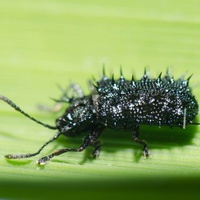insect: (0, 65, 197, 164)
